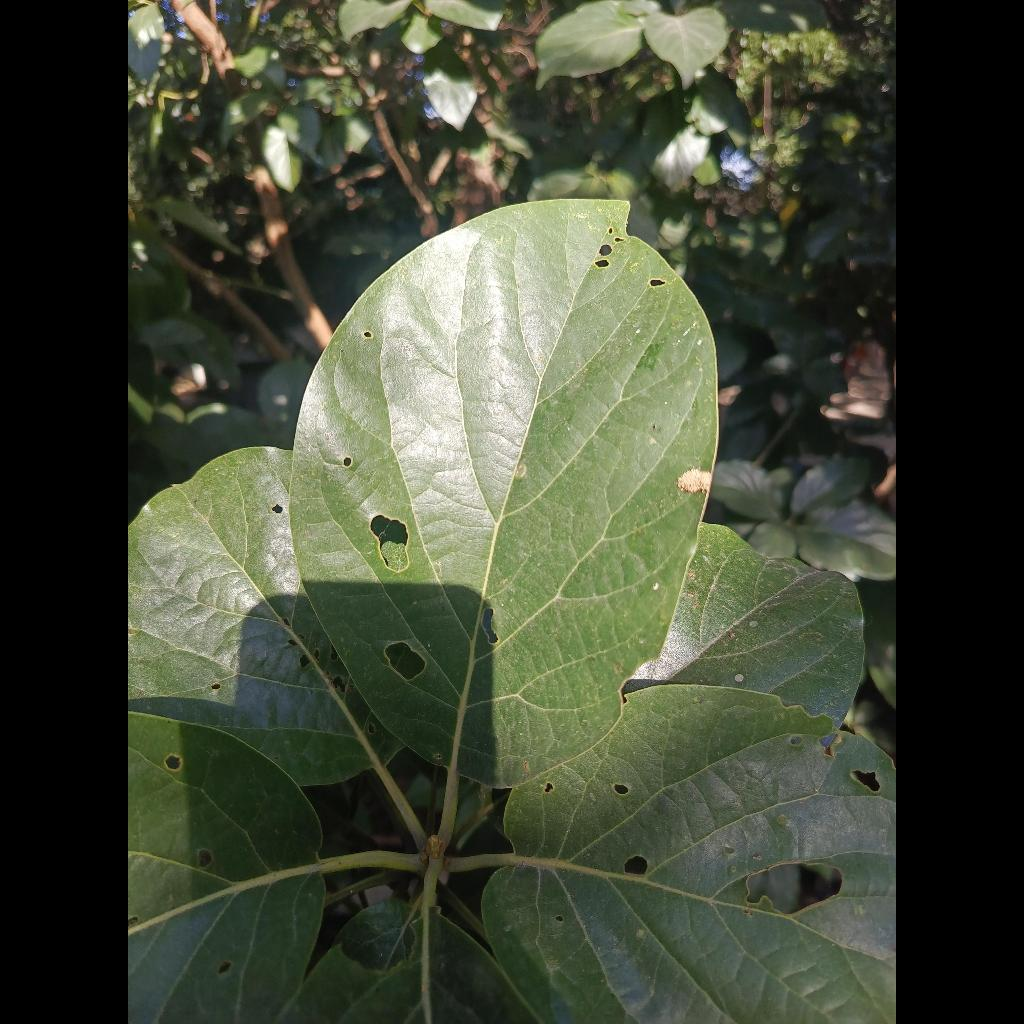plaga: (291, 201, 716, 804), (483, 685, 896, 1024)
